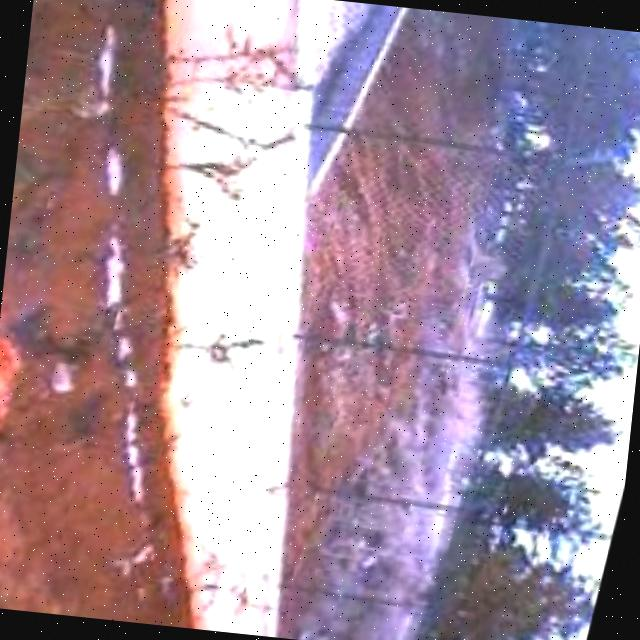fire: (0, 291, 47, 489)
